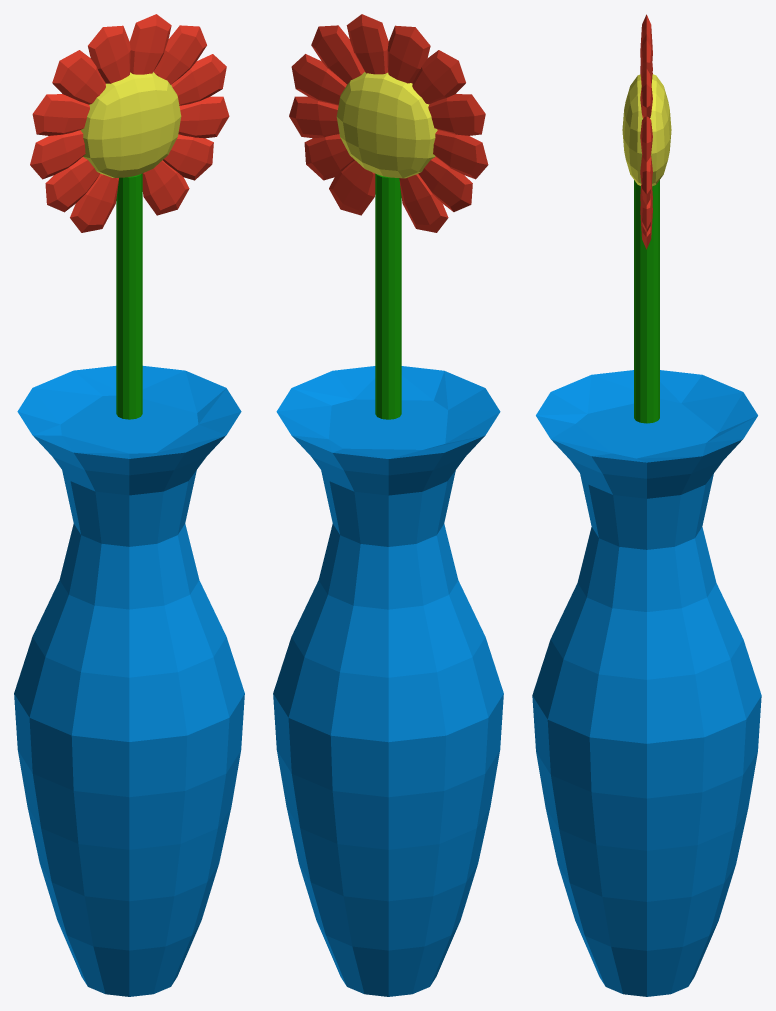
File: VaseWithFlower.glb
The picture shows the model from 3 angles, left to right: view 1: azimuth 30°, elevation 25°; view 2: azimuth 150°, elevation 25°; view 3: azimuth 270°, elevation 25°; orthographic projection.
Parts seen in each view (by area): view 1: Vase, Flower, Stem, Petals.004, Petals.005, Petals.003, Petals, Petals.002, Petals.001; view 2: Vase, Flower, Stem, Petals.004, Petals.005, Petals.003, Petals, Petals.002, Petals.001; view 3: Vase, Stem, Flower, Petals.005.
Part boxes in pixels (left/top/right/bottom): Vase: left=14, top=366, right=244, bottom=996; Flower: left=81, top=72, right=181, bottom=177; Stem: left=116, top=173, right=142, bottom=419; Petals.004: left=52, top=25, right=206, bottom=104; Petals.005: left=88, top=14, right=171, bottom=83; Petals.003: left=32, top=54, right=226, bottom=135; Petals: left=70, top=160, right=189, bottom=232; Petals.002: left=30, top=96, right=229, bottom=179; Petals.001: left=45, top=134, right=213, bottom=212; Vase: left=273, top=366, right=503, bottom=996; Flower: left=336, top=72, right=437, bottom=178; Stem: left=375, top=173, right=401, bottom=419; Petals.004: left=311, top=25, right=465, bottom=104; Petals.005: left=346, top=14, right=430, bottom=83; Petals.003: left=291, top=54, right=485, bottom=135; Petals: left=329, top=160, right=448, bottom=232; Petals.002: left=289, top=96, right=488, bottom=179; Petals.001: left=304, top=134, right=472, bottom=211; Vase: left=532, top=370, right=761, bottom=996; Stem: left=634, top=180, right=659, bottom=423; Flower: left=622, top=74, right=671, bottom=186; Petals.005: left=640, top=14, right=652, bottom=84.
Size of the model in its own units: 0.3373 by 1.54 by 0.3373.
